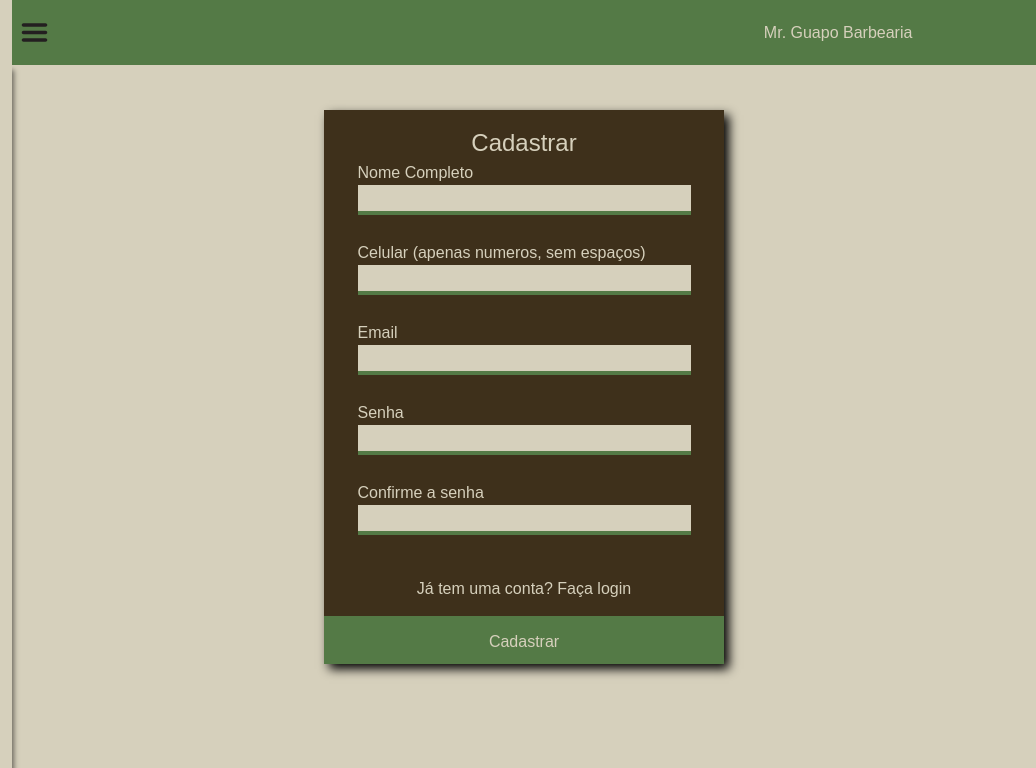
Test: Fluxo de registro do usuário › deve exibir erros de validação para campos obrigatórios vazios
Click the submit button.
click(524, 642)  # box [324,620,724,664]
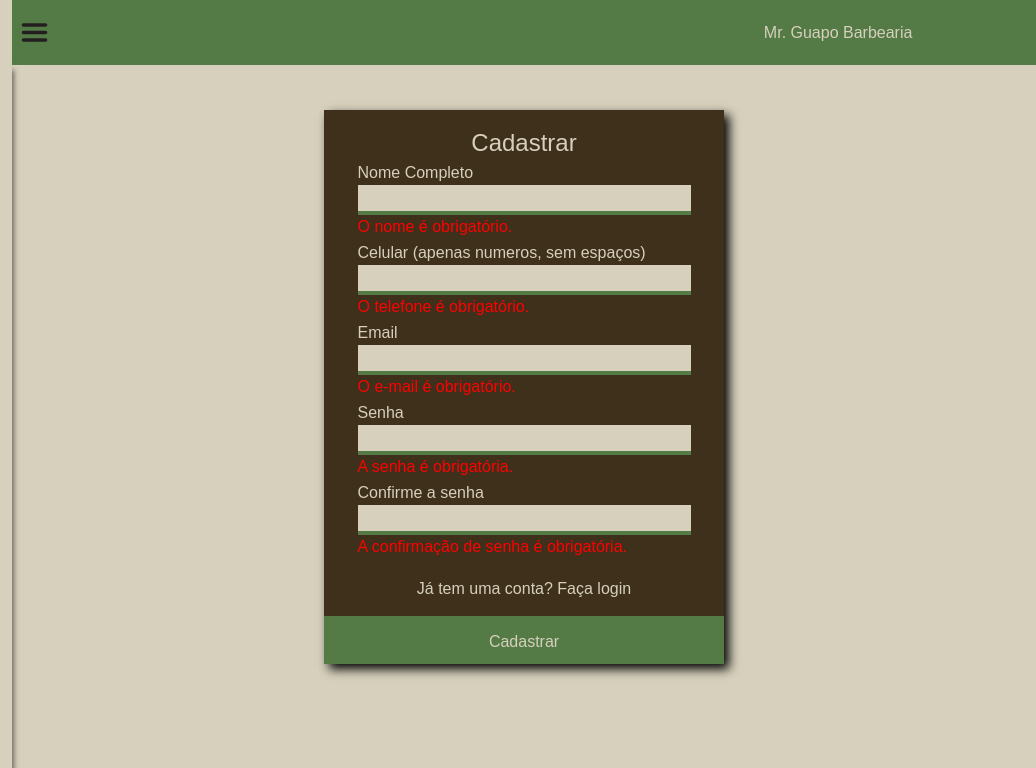
Now the text "O nome é obrigatório" is shown, box [358,218,513,235]
Now the text "O e-mail é obrigatório" is shown, box [358,378,516,395]
Now the text "A senha é obrigatória" is shown, box [358,458,514,475]
